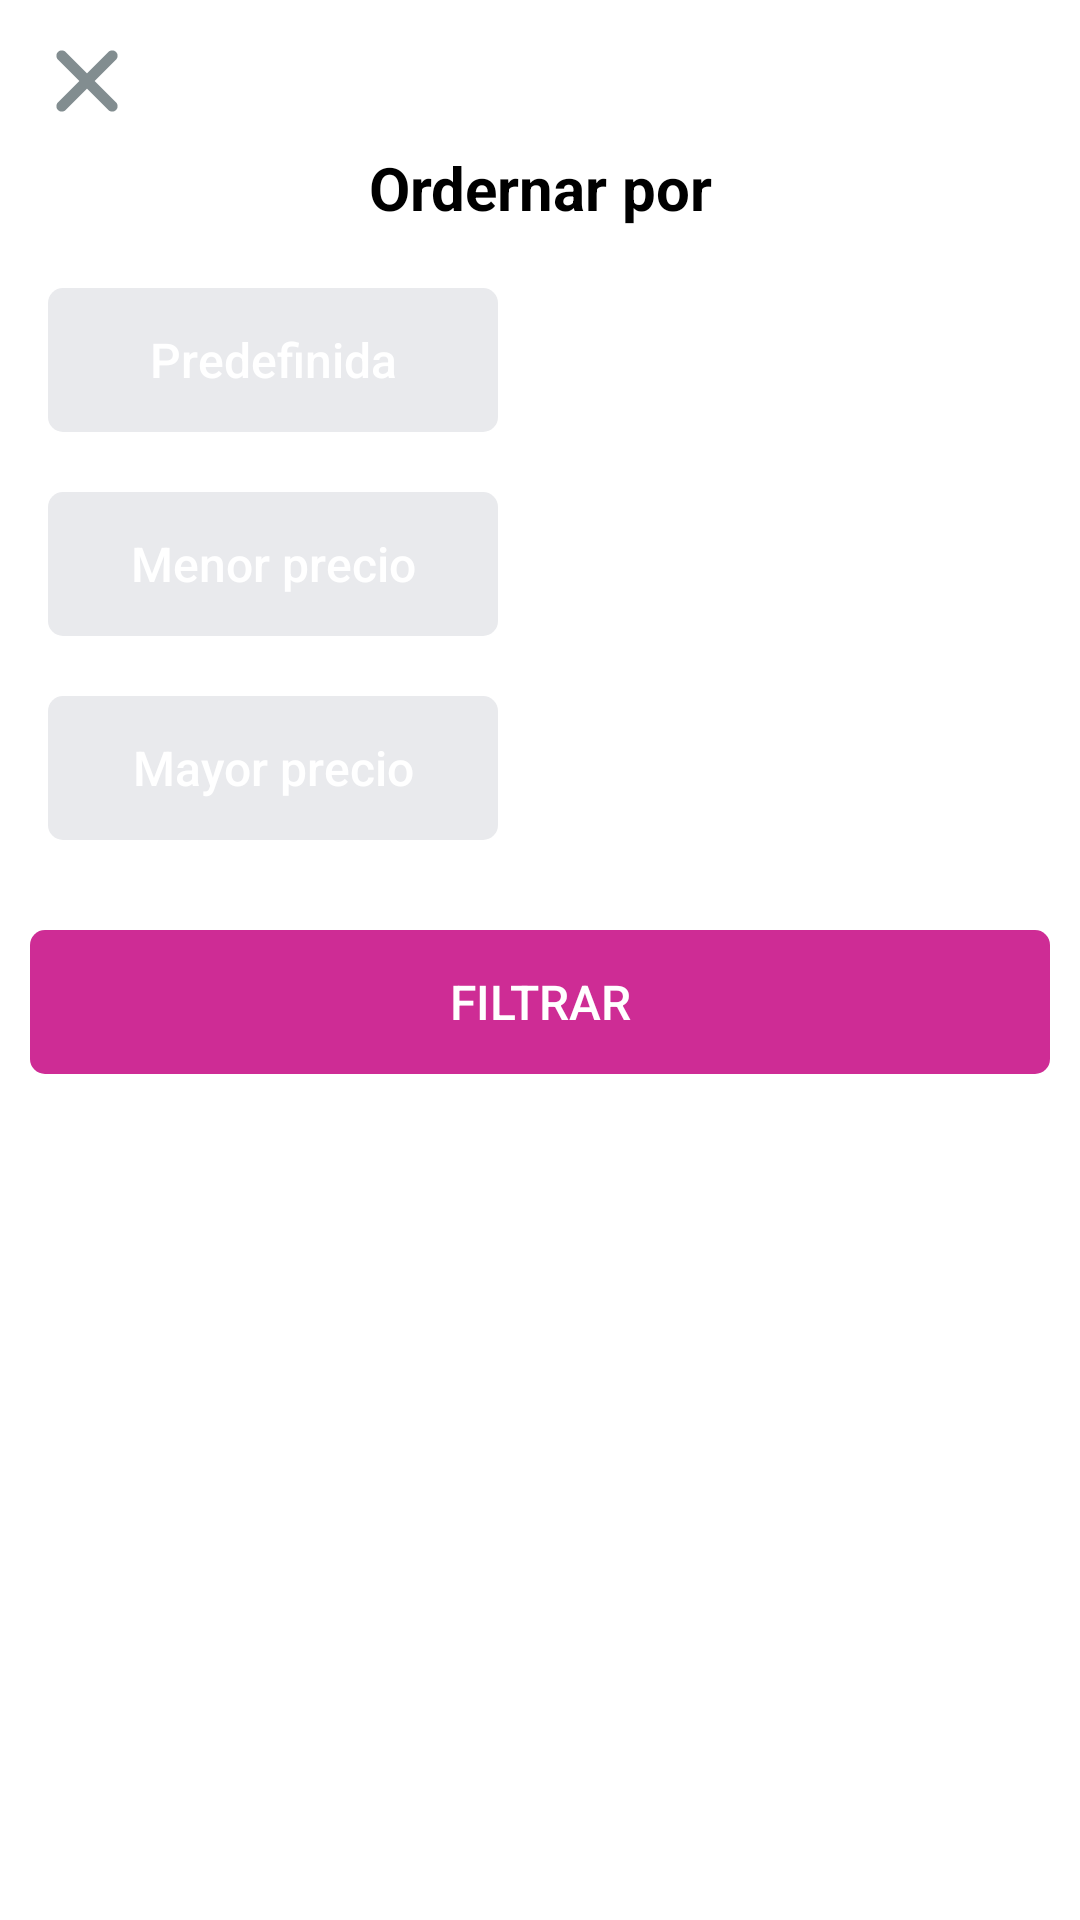

Screen size 1080px x 1920px. Icon name, then its center in pixels as [x,y]:
close: [87,81]
